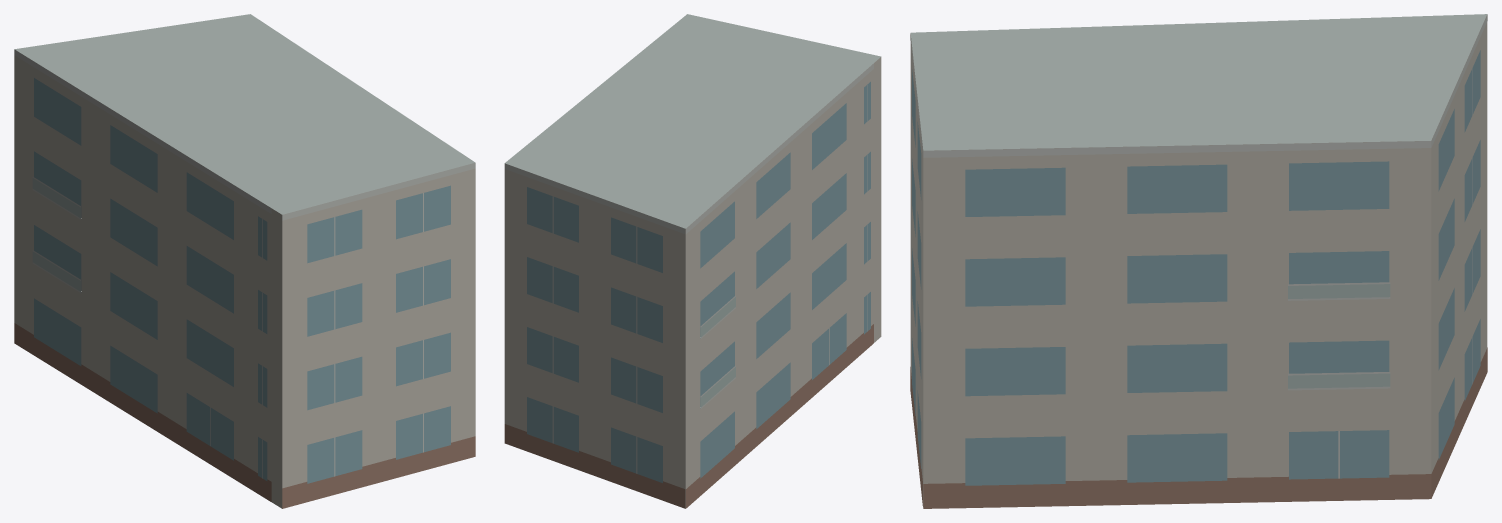
File: survey-upis-32650289.glb
3 renders of one model, left to right at view 1: azimuth 30°, elevation 25°; view 2: azimuth 150°, elevation 25°; view 3: azimuth 270°, elevation 25°, orthographic. The views are drawn at different scales.
Parts seen in each view (by area): view 1: survey-upis-32650289.tmp; view 2: survey-upis-32650289.tmp; view 3: survey-upis-32650289.tmp.
Boxes of the visible parts, x1,y1,x2,y2 form: survey-upis-32650289.tmp: [14, 14, 475, 508]; survey-upis-32650289.tmp: [504, 14, 881, 508]; survey-upis-32650289.tmp: [910, 14, 1487, 508].
Bounding box in the file's own units: 9.99 × 12.2 × 17.82.
